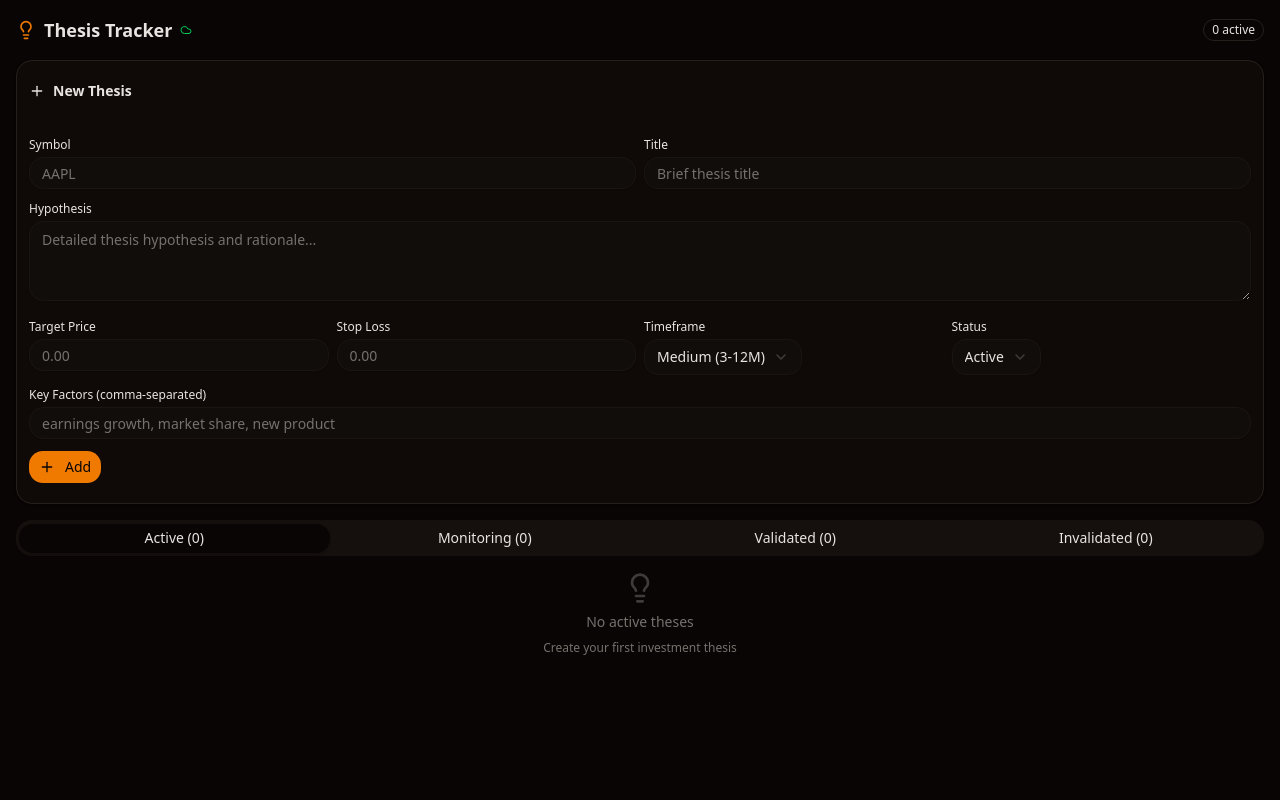
ThesisTracker › Timeframe Selection › can select short timeframe
# Click the first combobox (Timeframe)
Click the dropdown labelled "Medium (3-12M)" at (723, 357), box [644,339,802,375]
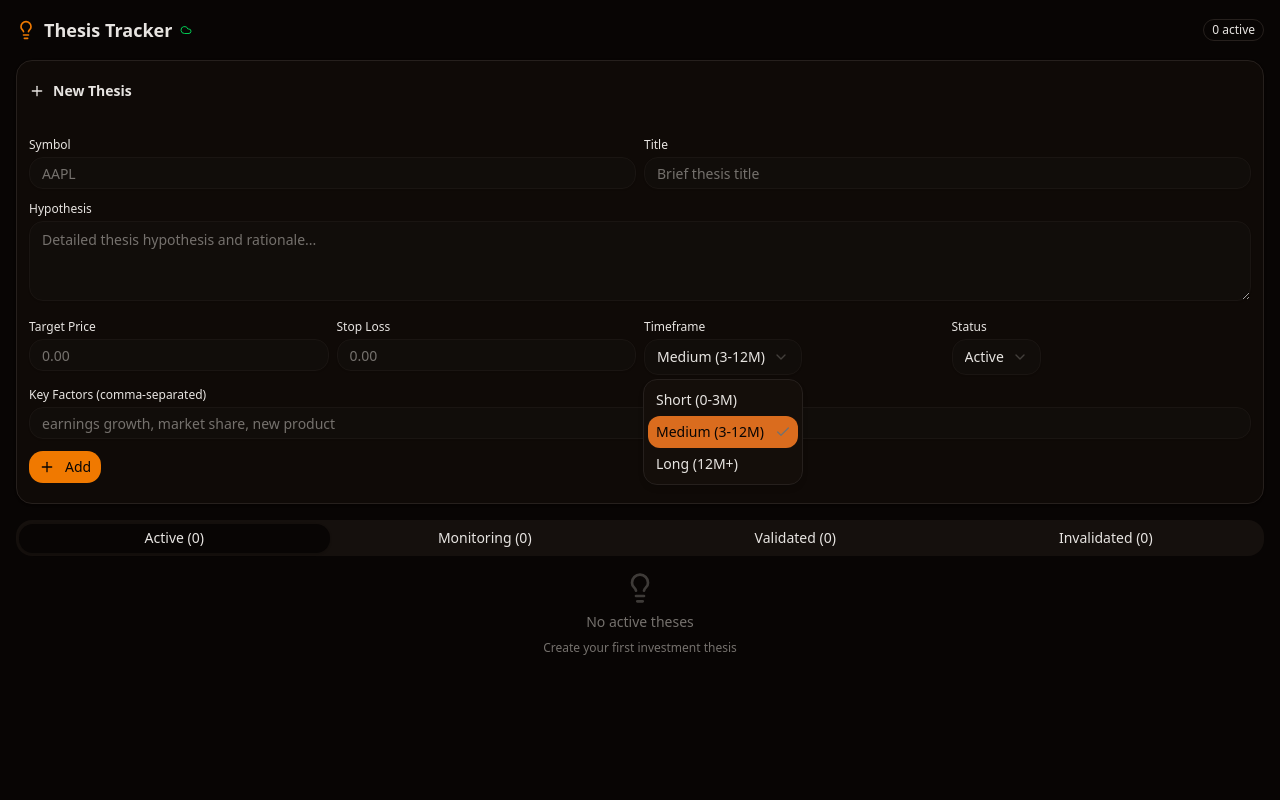
# Select short option
Click the option "Short (0-3M)" at (696, 400), box [656,390,737,409]
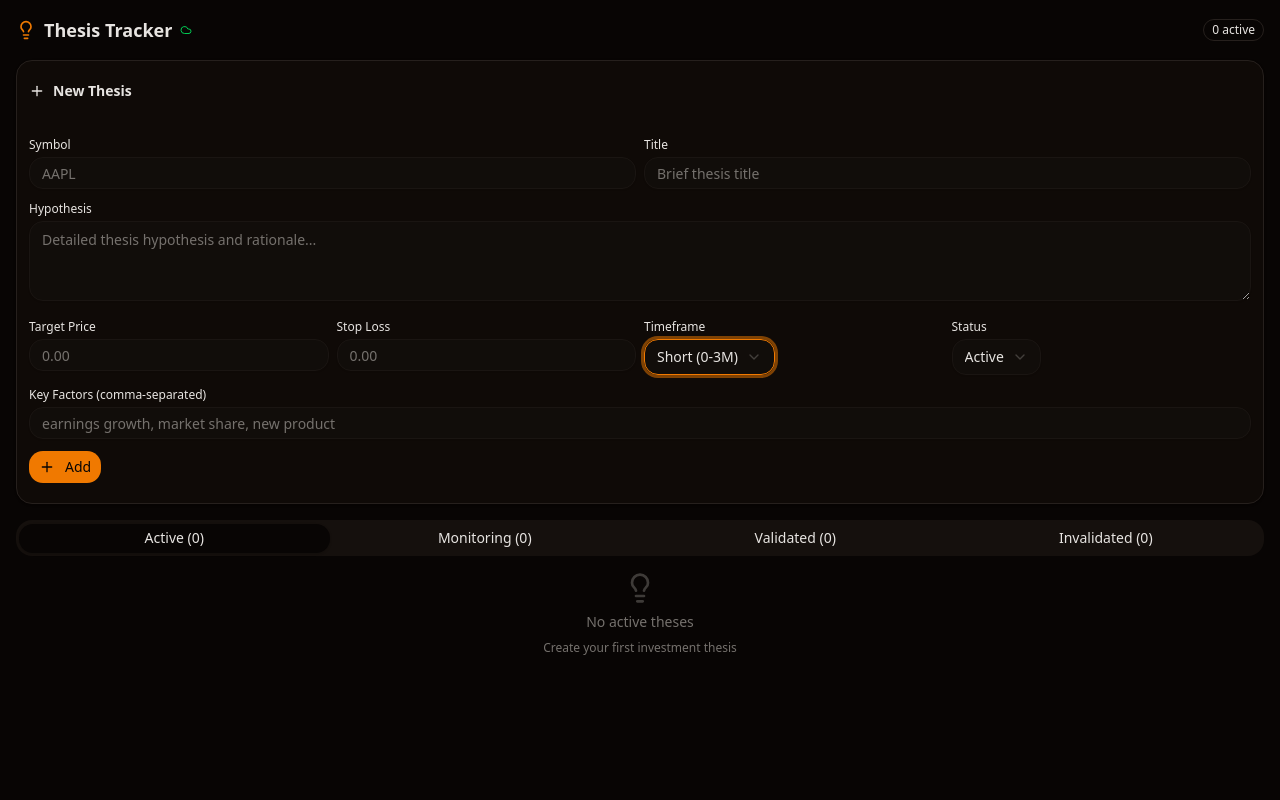
Check: the dropdown labelled "Short (0-3M)" is shown, box [644,339,775,375]
